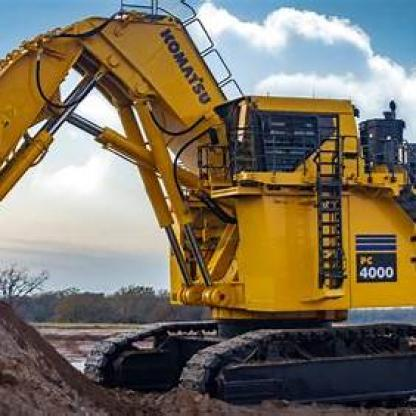excavator: (3, 7, 414, 394)
